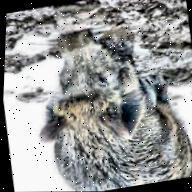boar: (11, 12, 192, 192)
